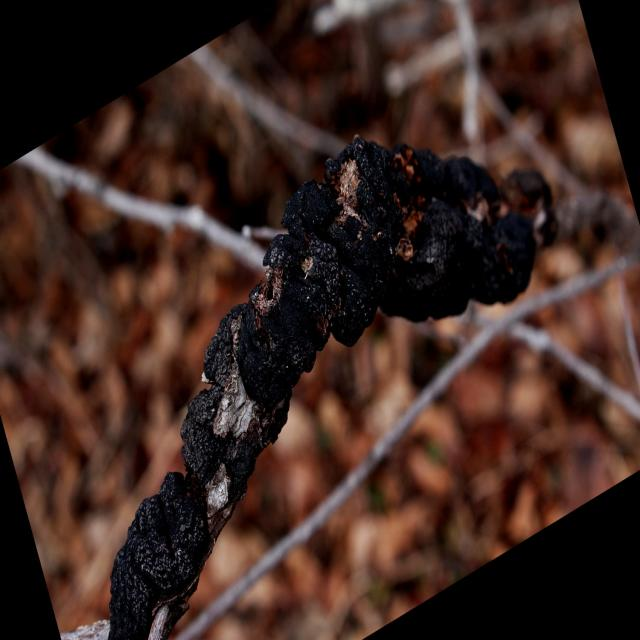Black_knot: (106, 132, 556, 636), (232, 133, 403, 410), (108, 468, 212, 638)
